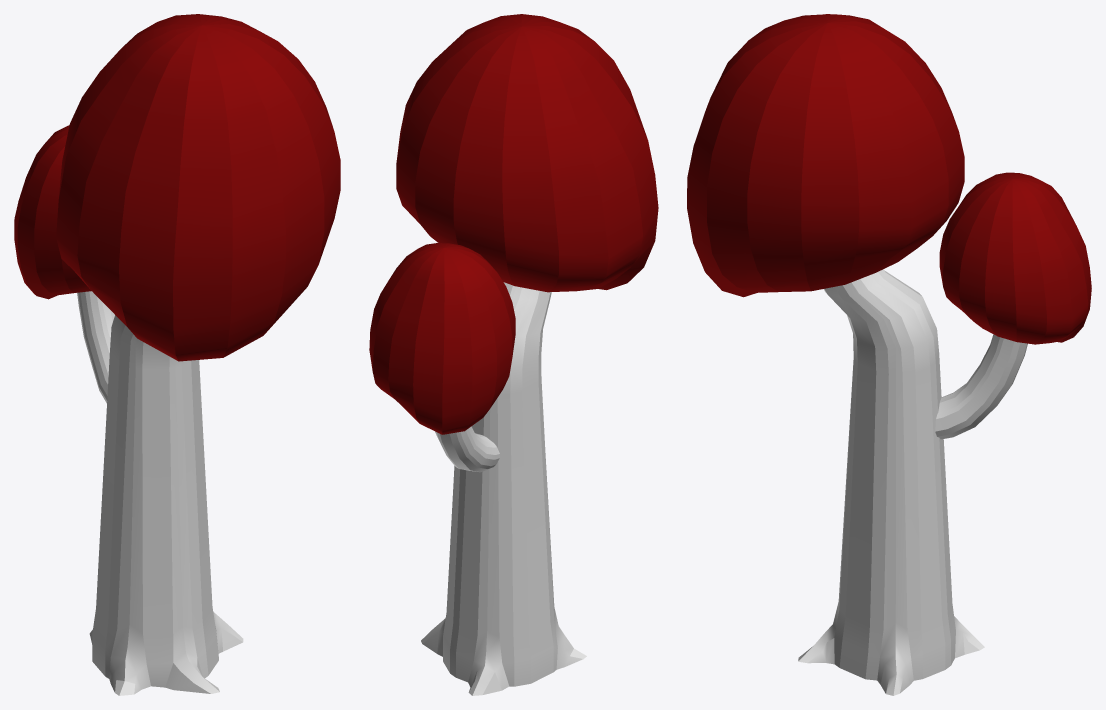
Rendered from DeflatedTree.fbx.
3 renders of one model, left to right at view 1: azimuth 30°, elevation 25°; view 2: azimuth 150°, elevation 25°; view 3: azimuth 270°, elevation 25°, orthographic. The views are drawn at different scales.
Parts seen in each view (by area): view 1: pSphere3; view 2: pSphere3; view 3: pSphere3.
Part boxes in pixels (x1,y1,x2,y2): pSphere3: (14,14,340,695); pSphere3: (369,14,658,695); pSphere3: (687,14,1091,695).
Bounding box in the file's own units: 4.54 × 11.68 × 6.7.
